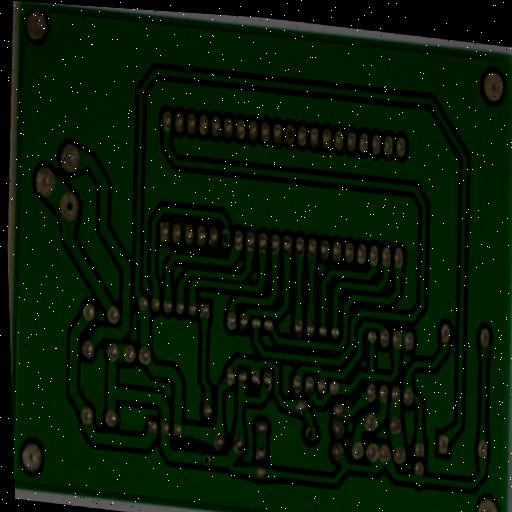missing_hole: (57, 189, 81, 223), (283, 120, 297, 149), (219, 226, 233, 251), (303, 426, 319, 446), (199, 451, 214, 470)
